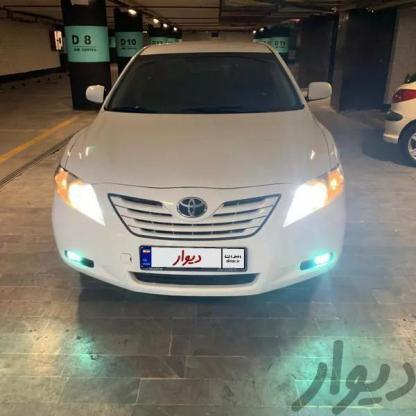Car: (51, 25, 346, 322), (385, 82, 416, 179)
